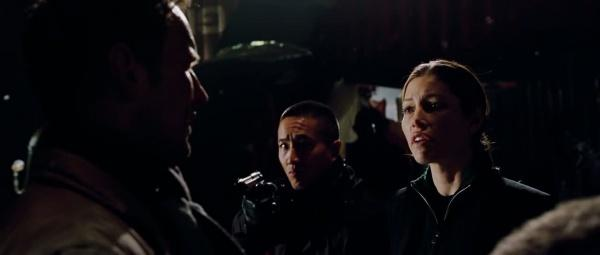Gun: (234, 172, 267, 193)
